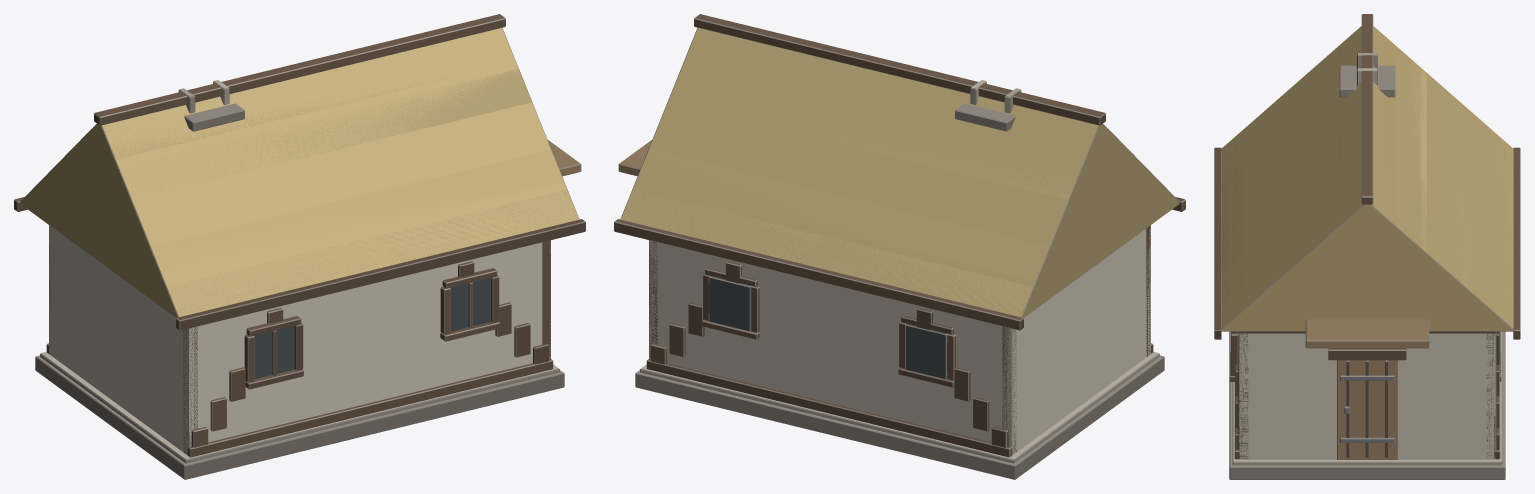
The model's file is SM_Kit_casa_e.fbx.
The picture shows the model from 3 angles, left to right: view 1: azimuth 30°, elevation 25°; view 2: azimuth 150°, elevation 25°; view 3: azimuth 270°, elevation 25°; orthographic projection. The views are drawn at different scales.
Visible parts, largest first — view 1: SM_Kit_casa_e; view 2: SM_Kit_casa_e; view 3: SM_Kit_casa_e.
Boxes of the visible parts, x1=… form: SM_Kit_casa_e: x1=14, y1=14, x2=585, y2=479; SM_Kit_casa_e: x1=614, y1=14, x2=1185, y2=479; SM_Kit_casa_e: x1=1214, y1=14, x2=1520, y2=479.
Size of what is drawn, in the model's own units: 895 by 595 by 570.
